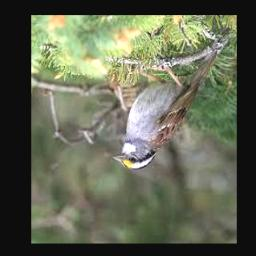Sparrow: (112, 47, 218, 170)
